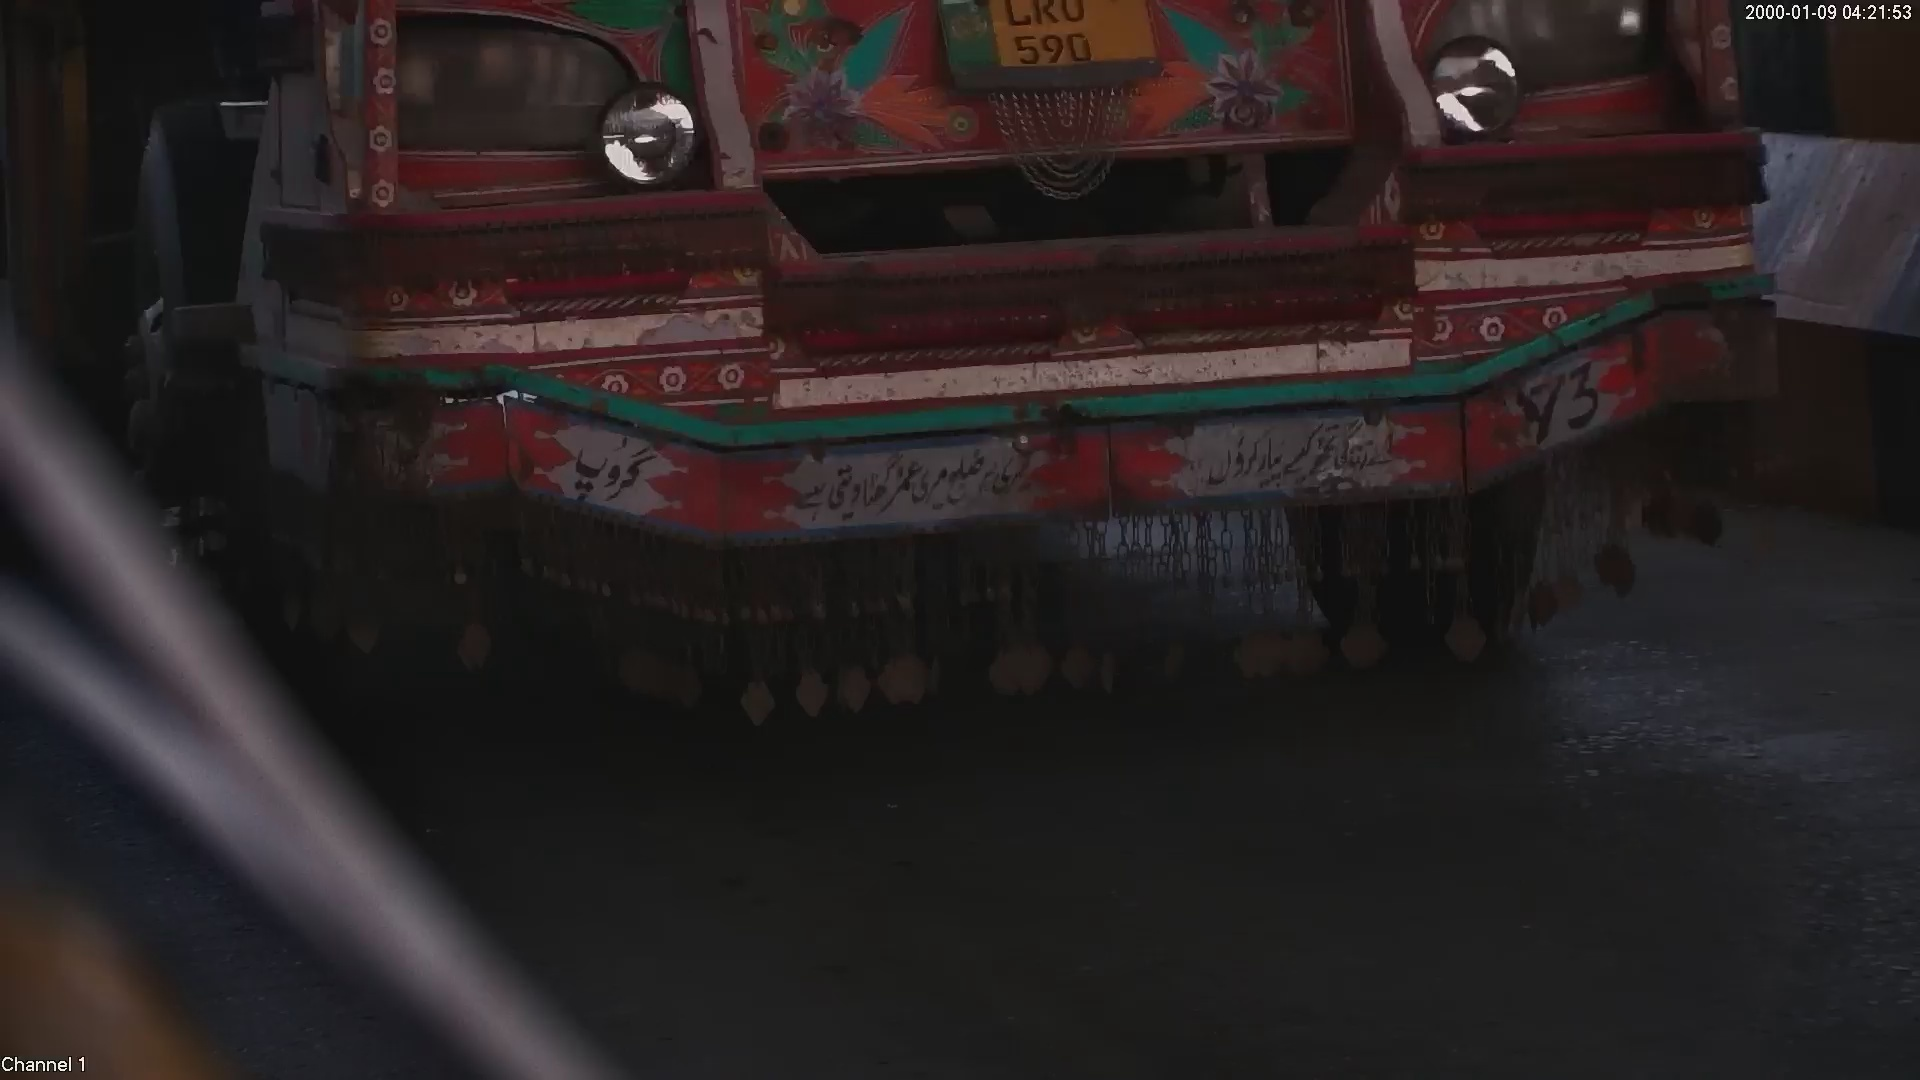Number_Plate: (939, 5, 1180, 75)
Undefined: (582, 551, 1550, 699), (380, 27, 702, 196), (1413, 7, 1700, 153), (800, 446, 1050, 523), (1176, 425, 1415, 505), (521, 412, 695, 516), (1487, 351, 1643, 453)
